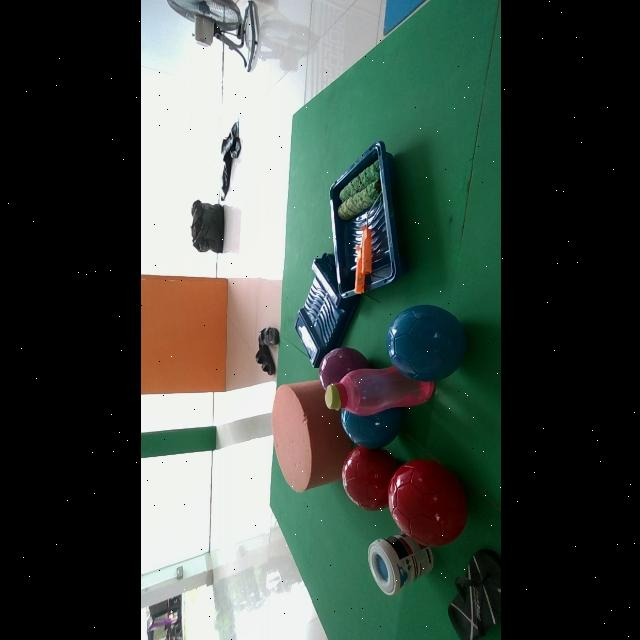B: (385, 305, 466, 382), (340, 408, 402, 449)
P: (318, 347, 369, 388)
R: (387, 459, 466, 547), (341, 446, 399, 511)
